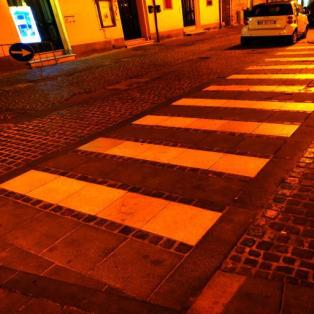Paso de Cebra: (74, 111, 306, 190), (199, 72, 313, 98)
